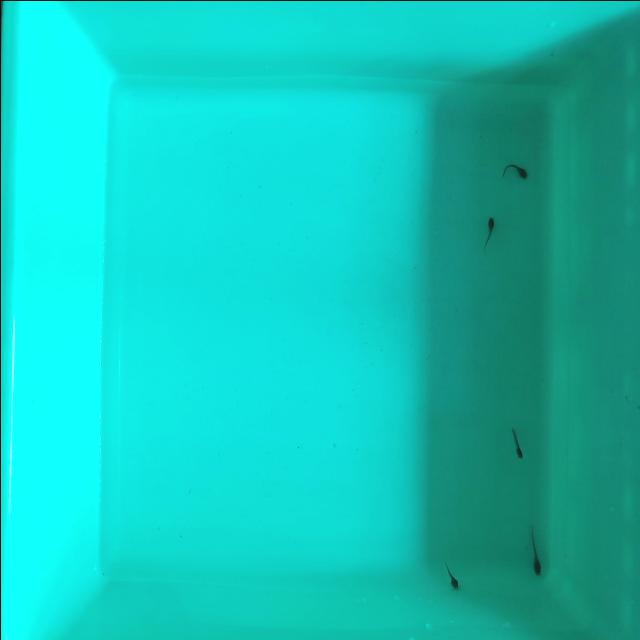lele: (528, 527, 542, 577), (511, 426, 524, 460), (445, 560, 459, 590), (482, 216, 494, 250), (501, 163, 527, 177)
